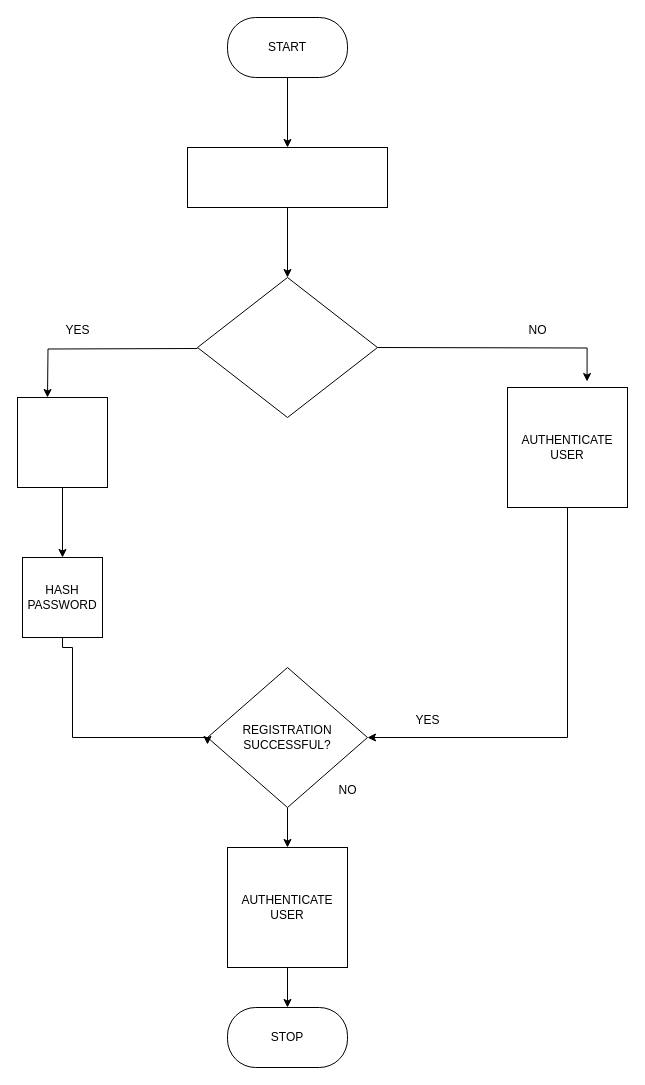
The diagram is 645 pixels wide and 1085 high, and some of its shapes have lost their labels. Each missing label, with the box of its shape:
NEW USER ?: (196, 276, 378, 418)
REGISTRATION / LOGIN FORM: (186, 146, 388, 208)
VALIDATE INPUT: (16, 396, 108, 488)
